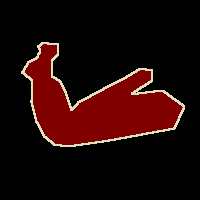tie: (22, 42, 184, 146)
